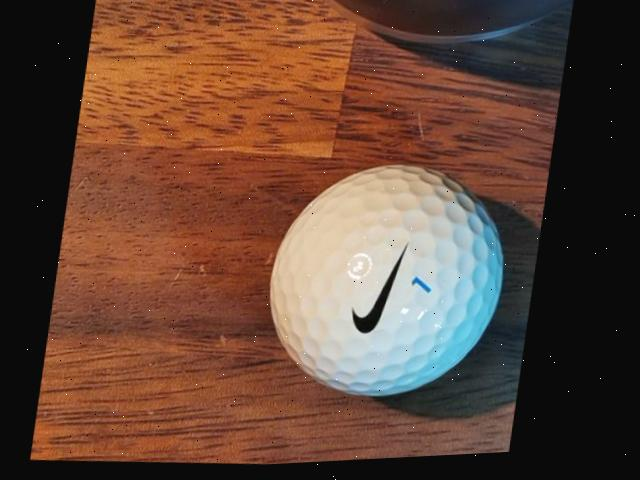Ball: (258, 155, 524, 415)
Nike: (354, 244, 412, 342)
